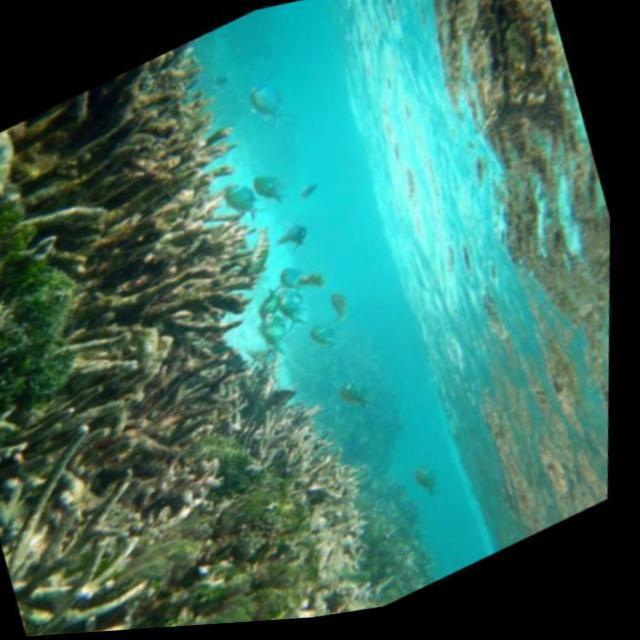Dead Coral: (0, 8, 323, 396), (14, 320, 303, 569)
